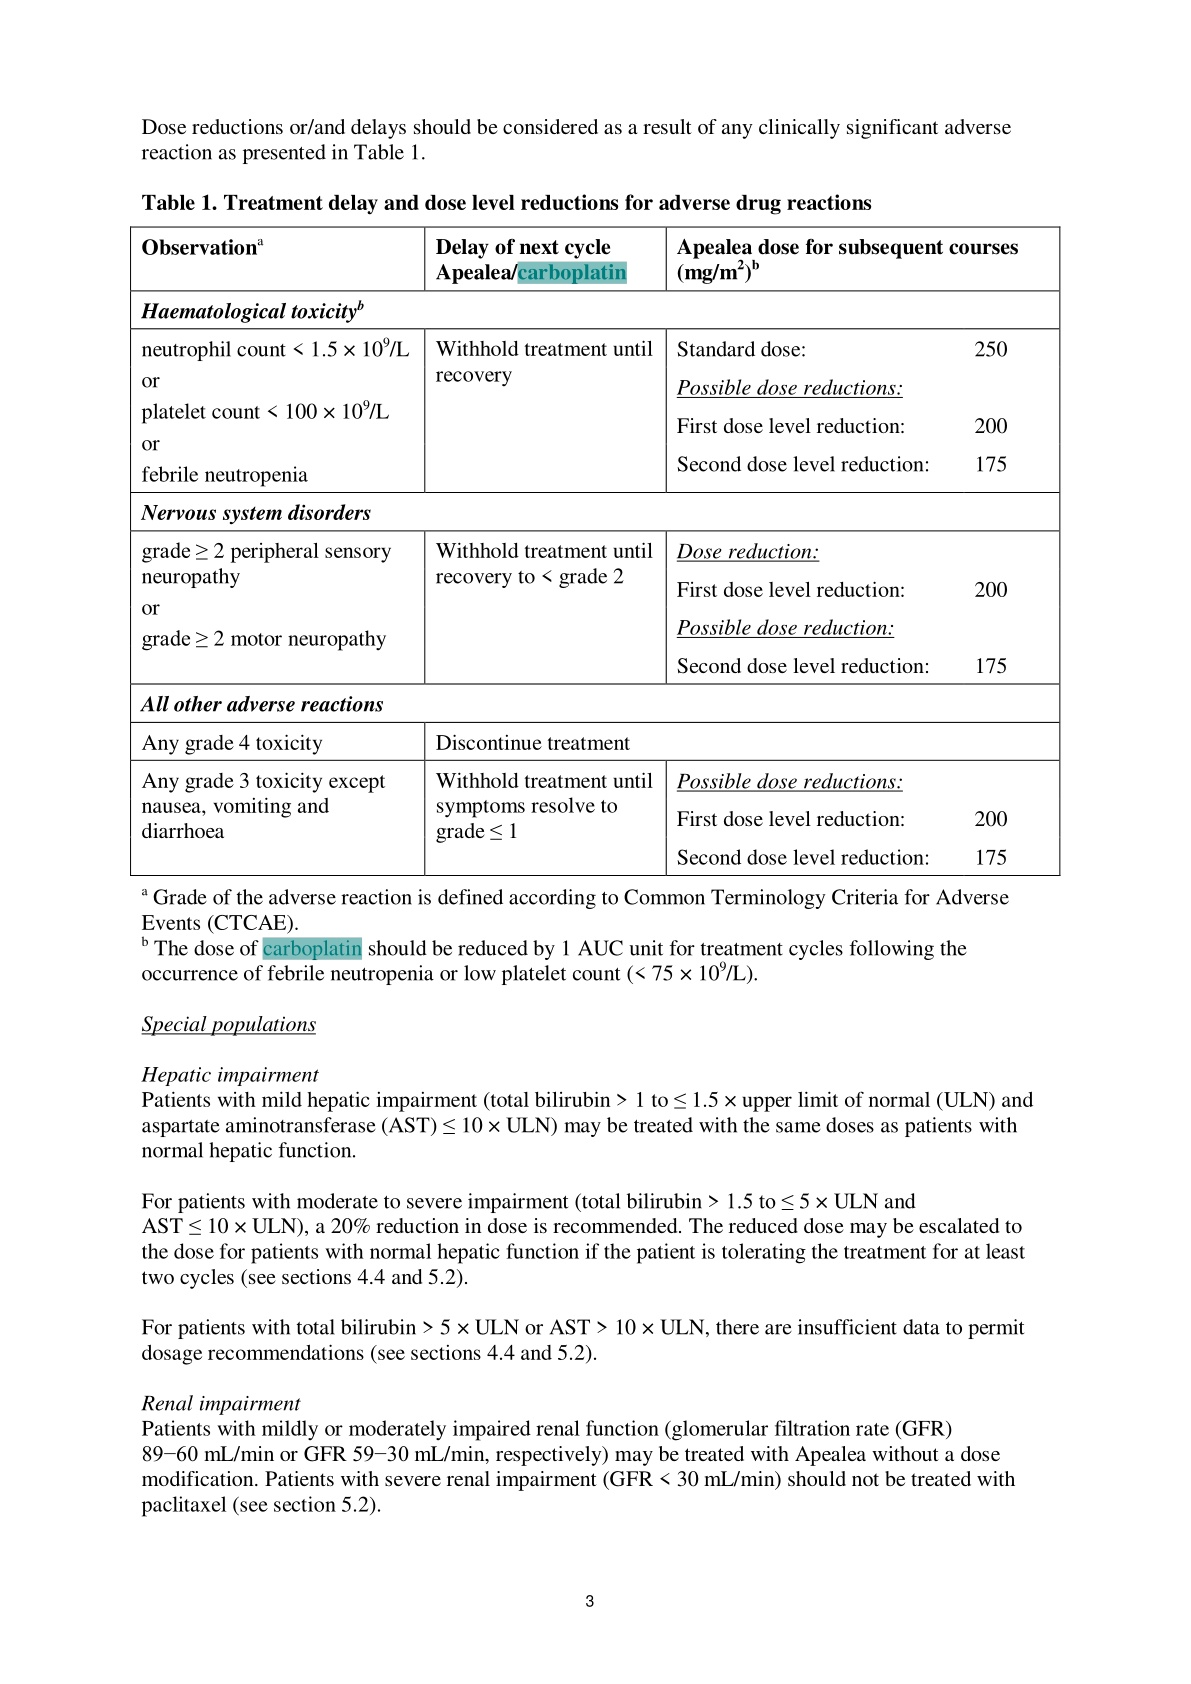merged_cells: (128, 224, 1061, 876)
